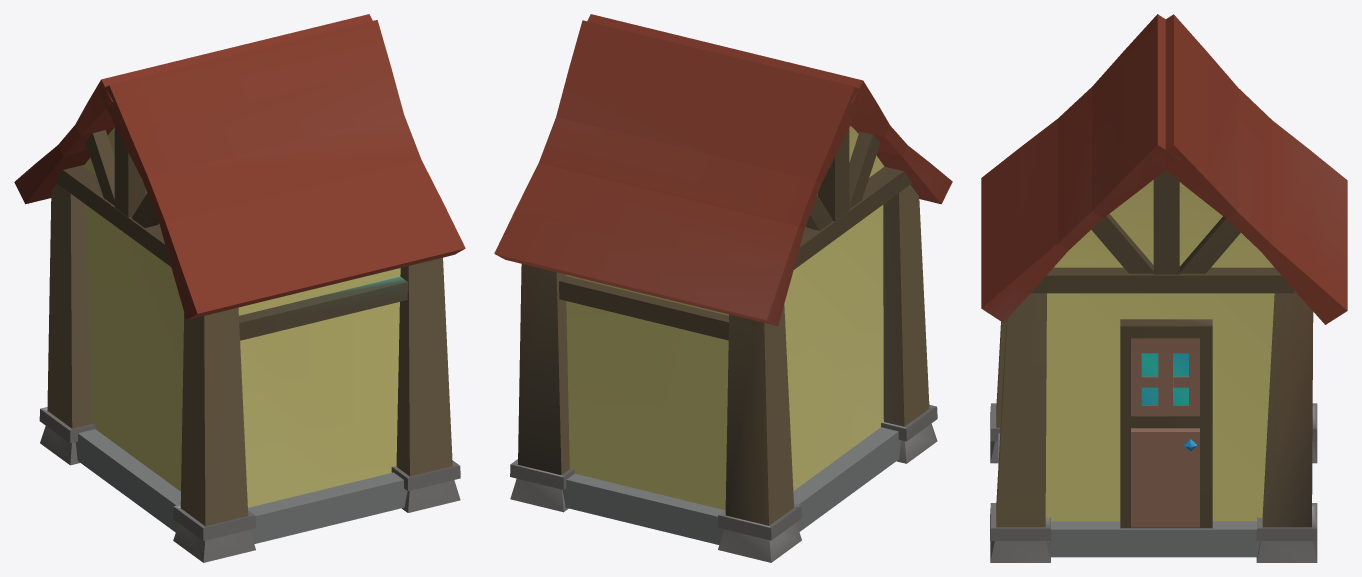
The model's file is CasaAmarela.fbx.
3 renders of one model, left to right at view 1: azimuth 30°, elevation 25°; view 2: azimuth 150°, elevation 25°; view 3: azimuth 270°, elevation 25°, orthographic.
Parts seen in each view (by area): view 1: Casa; view 2: Casa; view 3: Casa.
Boxes of the visible parts, box(x1,y1,x2,y2) form: Casa: box(14, 14, 465, 562); Casa: box(494, 14, 952, 562); Casa: box(981, 14, 1347, 562).
Size of the model in its own units: 565 by 845 by 669.
